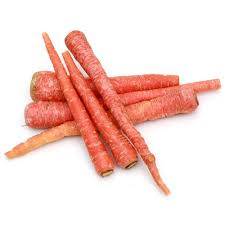carrot: (59, 26, 161, 187), (38, 33, 106, 172), (55, 44, 128, 163)
